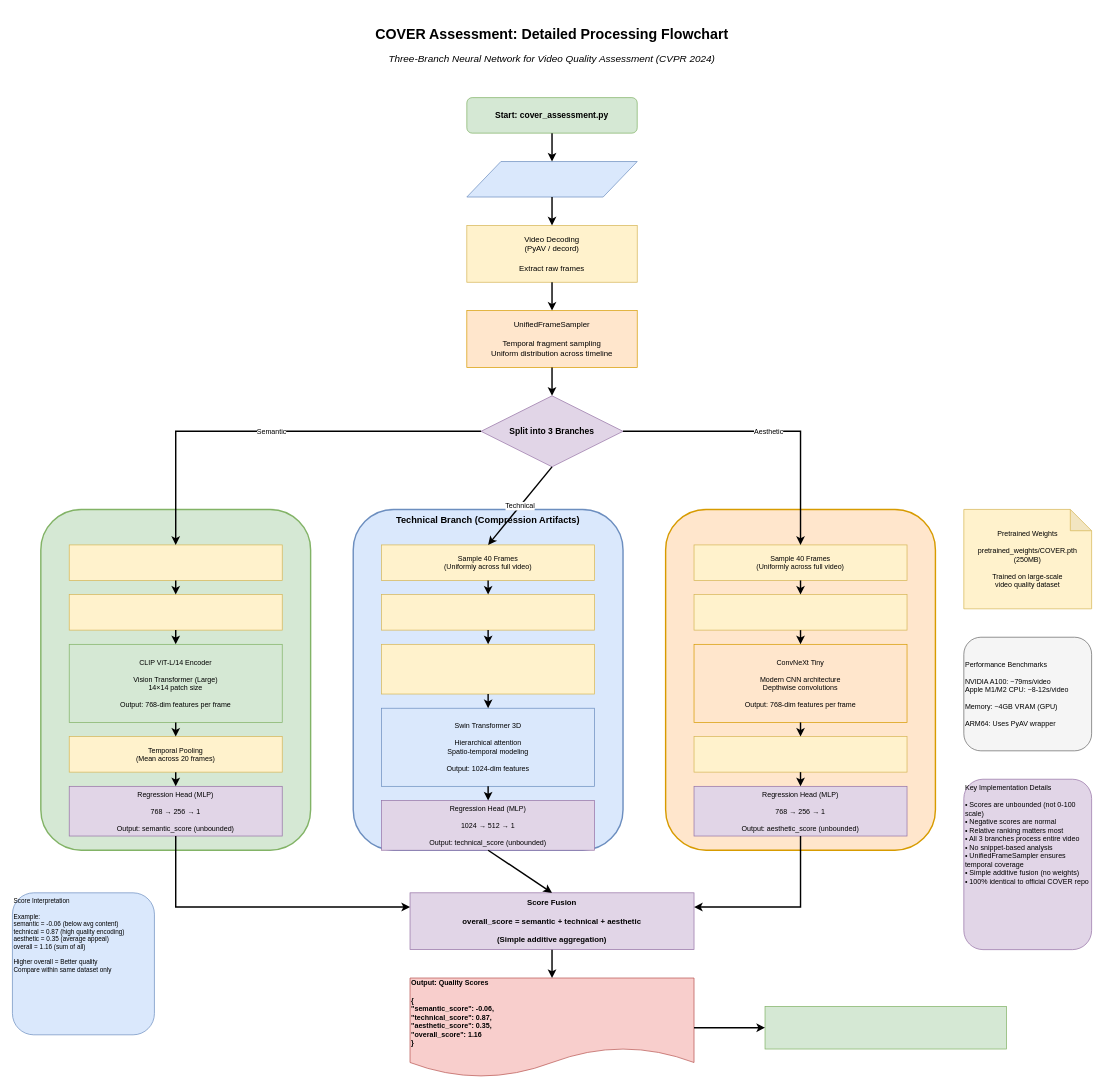
Some shapes in this 1104 by 1090 pixel diagram are drawn without their labels. The shapes that lost their labels are listed below. From the top down, each one's box as (x1, y1, x2, y2) in pixels, then its label:
(466, 161, 637, 197): Input: Video File (MP4, H.264)
(69, 544, 282, 580): Sample 20 Frames (Uniformly across full video)
(69, 594, 282, 630): Resize to 512×512 (CLIP input size)
(381, 594, 595, 630): Divide into 7×7 Grid (49 spatial regions)
(693, 594, 907, 630): Resize to 224×224 (ConvNeXt input size)
(40, 508, 311, 851): Semantic Branch (Content Understanding)
(381, 644, 595, 694): Extract 32×32 Patches per grid cell Total: 49 patches × 40 frames
(665, 508, 936, 851): Aesthetic Branch (Visual Appeal)
(693, 736, 907, 772): Temporal Pooling (Mean across 40 frames)
(764, 1006, 1006, 1049): Export to CSV video_name,semantic,technical,aesthetic,overall
